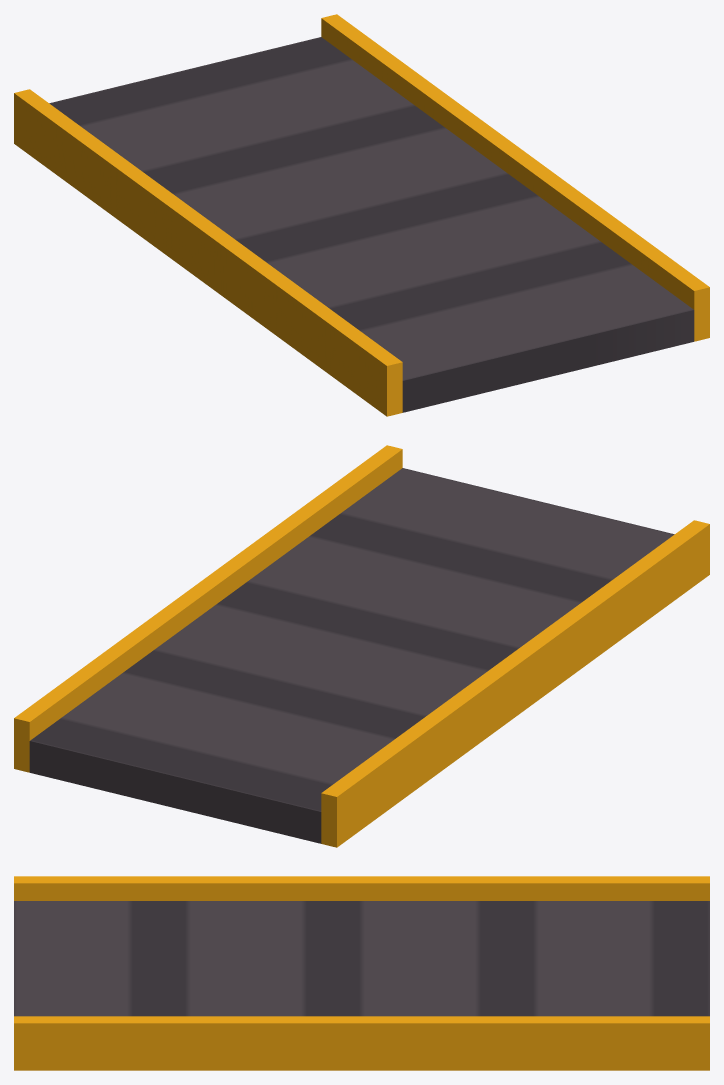
File: lenta1.fbx
3 views of the same model, one above another, from view 1: azimuth 30°, elevation 25°; view 2: azimuth 150°, elevation 25°; view 3: azimuth 270°, elevation 25° (orthographic). The views are drawn at different scales.
Parts seen in each view (by area): view 1: Cylinder; view 2: Cylinder; view 3: Cylinder.
Boxes of the visible parts, x1=… form: Cylinder: x1=14, y1=14, x2=709, y2=416; Cylinder: x1=14, y1=445, x2=709, y2=847; Cylinder: x1=14, y1=876, x2=709, y2=1070.
Bounding box in the file's own units: 2 × 0.3 × 4.
2 materials, 1 textured.
